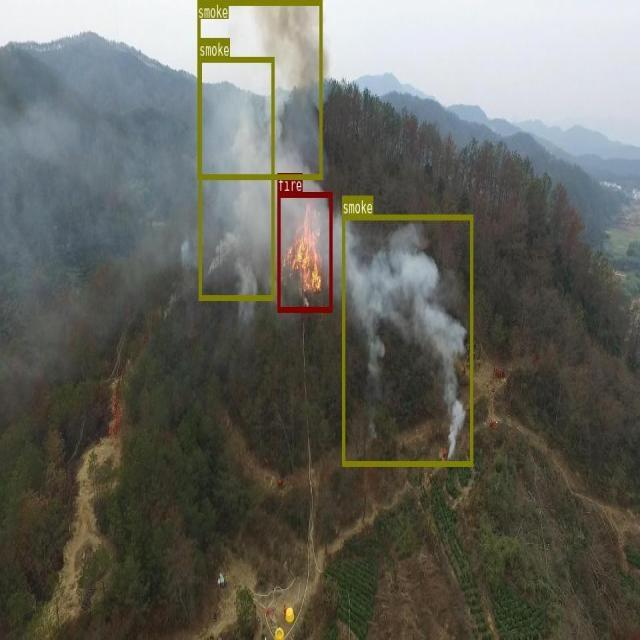fire: (277, 192, 332, 311)
smoke: (342, 214, 472, 466), (197, 0, 322, 178), (198, 57, 274, 300)
